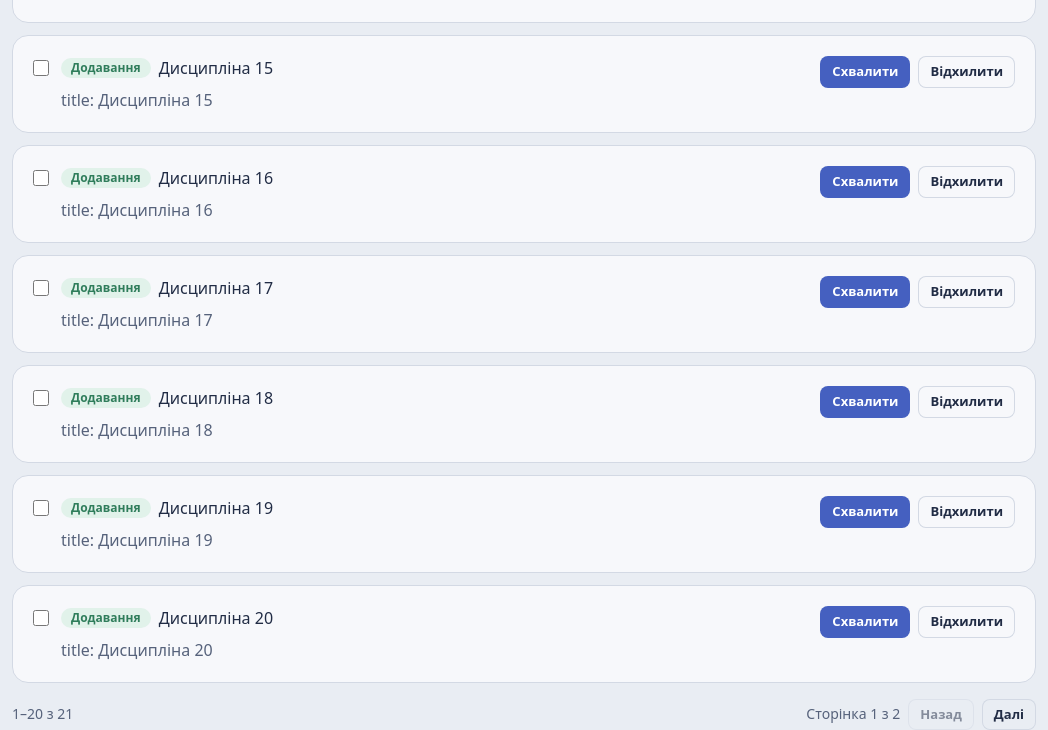
it: ModerationPage: пагінація › після розгляду останнього запису сторінки повертає на попередню, а не показує «Черга порожня»
(page scrolled)
Click the button "Далі". click: (1009, 714)
box: [982,699,1036,729]
(page scrolled)
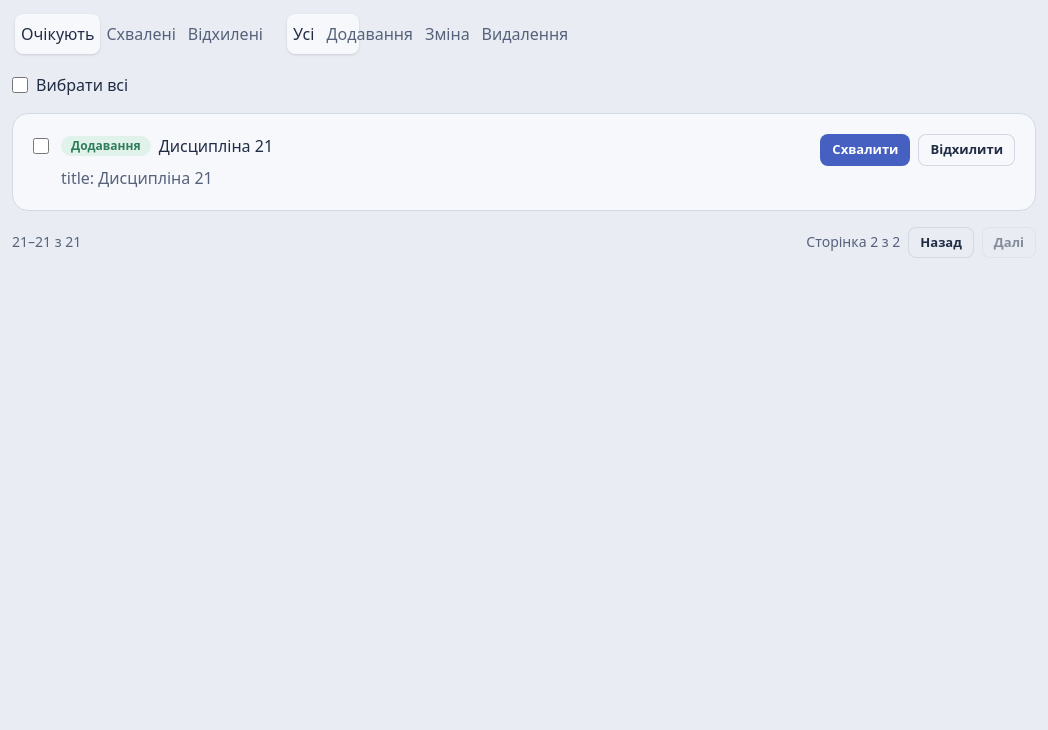
Click the button "Схвалити". click: (865, 150)
box: [820,134,910,166]
(page scrolled)
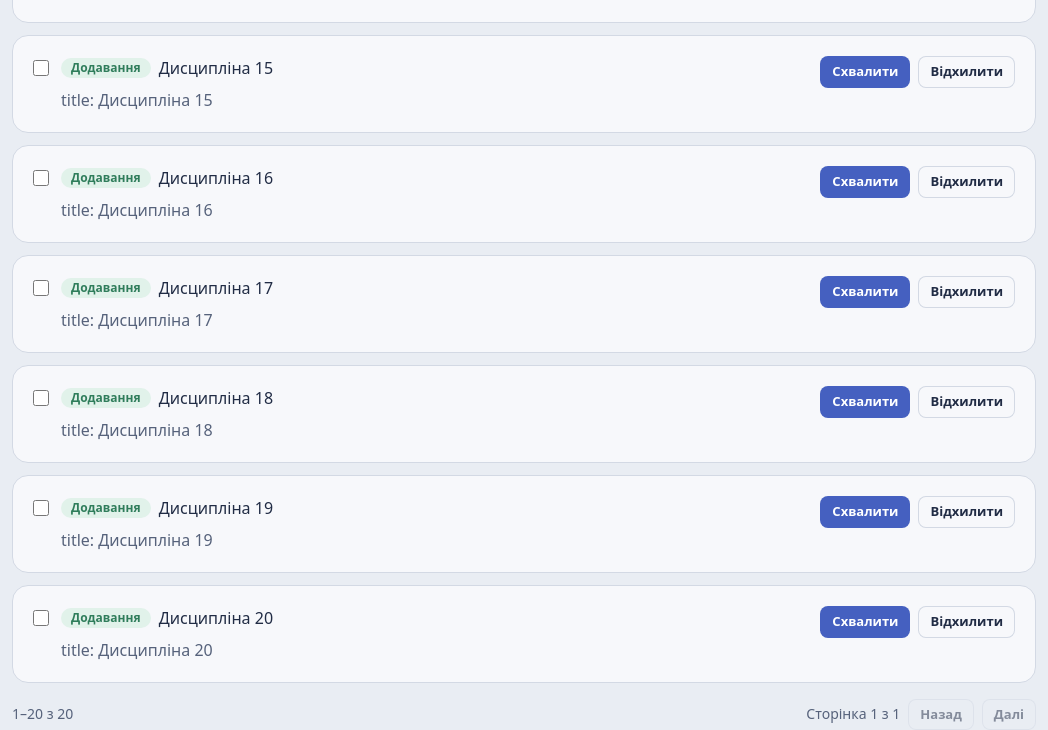
Expected: the text "Сторінка 1 з 1" is shown, [806,704,900,724]
